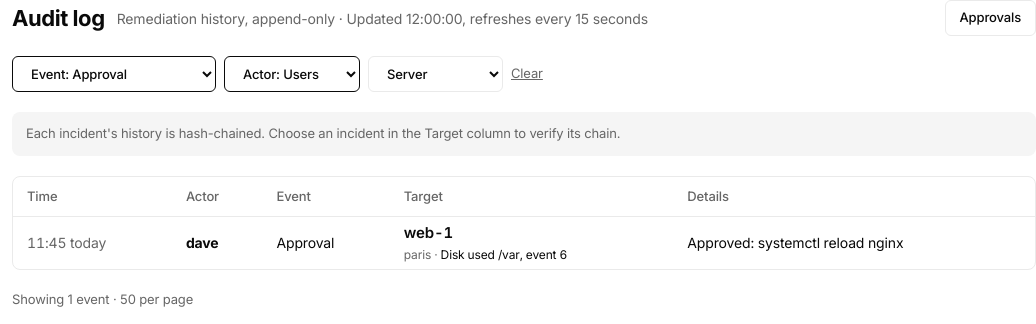
Test: RemediationAudit › passes filters and the scope to the API
Expected: the table named "Remediation events" is shown, [13,176,1035,268]
Expected: the dropdown named "Event" shows "Event: Approval", [12,56,216,92]
Select "Server: web-1" in the dropdown named "Server". click: {"x": 436, "y": 74}
box: [368,56,503,92]
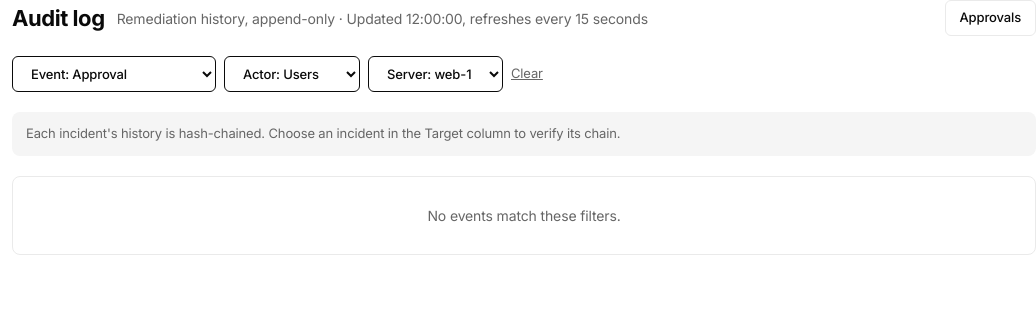
Result: the text "No events match these filters." is shown at [427,204,620,226]
